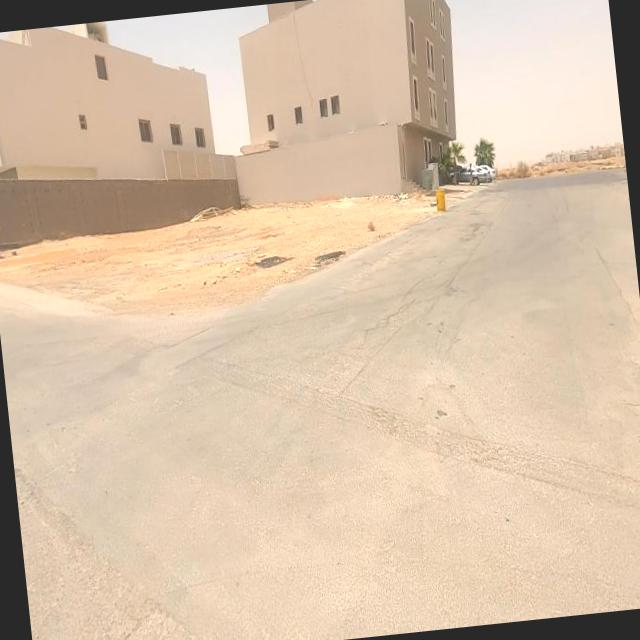debris: (161, 166, 268, 272), (420, 183, 448, 222)
